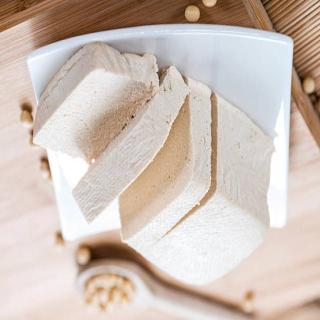Tahu: (28, 42, 274, 290)
